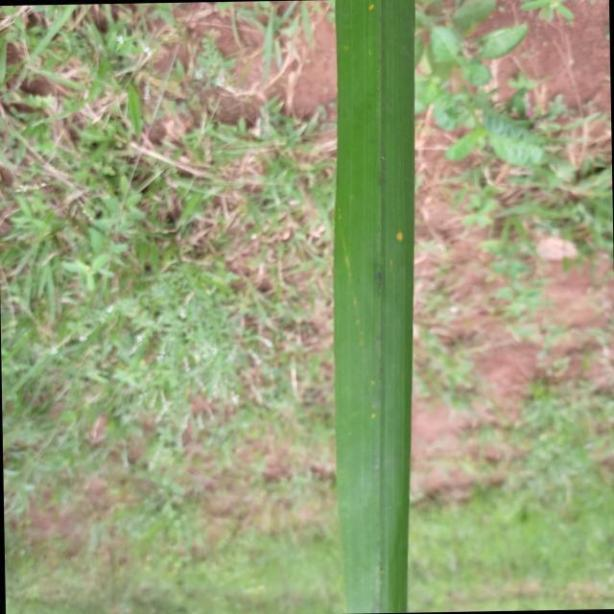Kalium: (331, 0, 416, 614)
